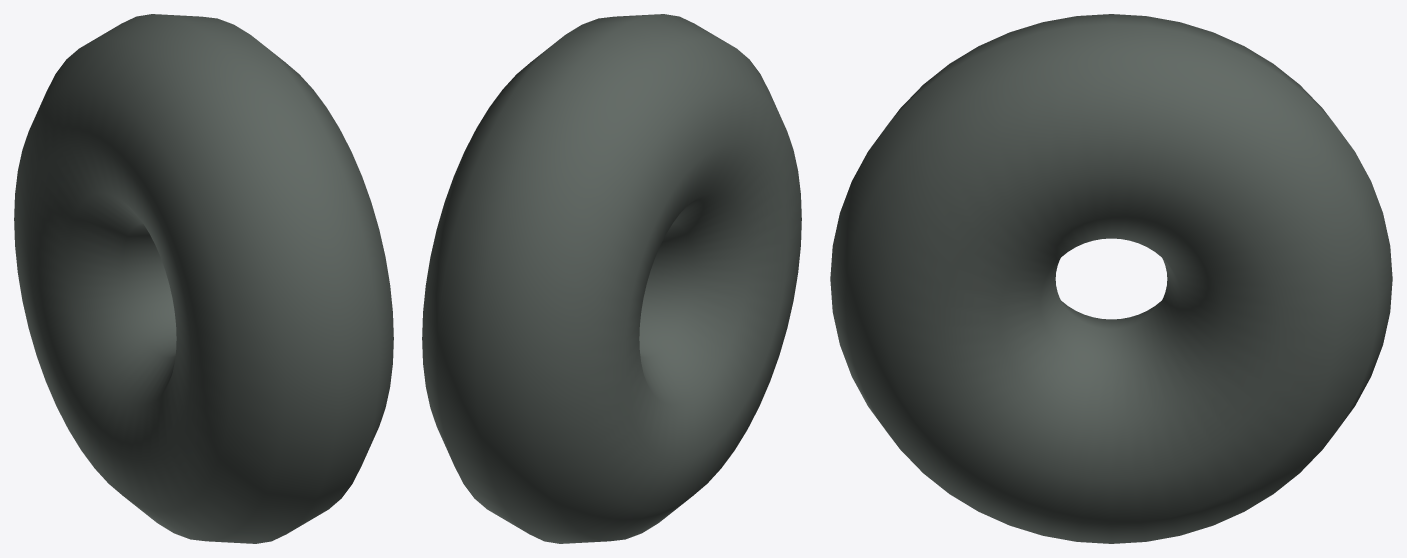
The model's file is dart hole.fbx.
The picture shows the model from 3 angles, left to right: view 1: azimuth 30°, elevation 25°; view 2: azimuth 150°, elevation 25°; view 3: azimuth 270°, elevation 25°; orthographic projection. The views are drawn at different scales.
Parts seen in each view (by area): view 1: Blow Dart Hole; view 2: Blow Dart Hole; view 3: Blow Dart Hole.
Boxes of the visible parts, <box> form: Blow Dart Hole: <box>14,14,393,543</box>; Blow Dart Hole: <box>422,14,801,543</box>; Blow Dart Hole: <box>830,14,1392,543</box>.
Bounding box in the file's own units: 5.23 × 13.05 × 13.05.
Materials: 1 (1 with a texture image).
